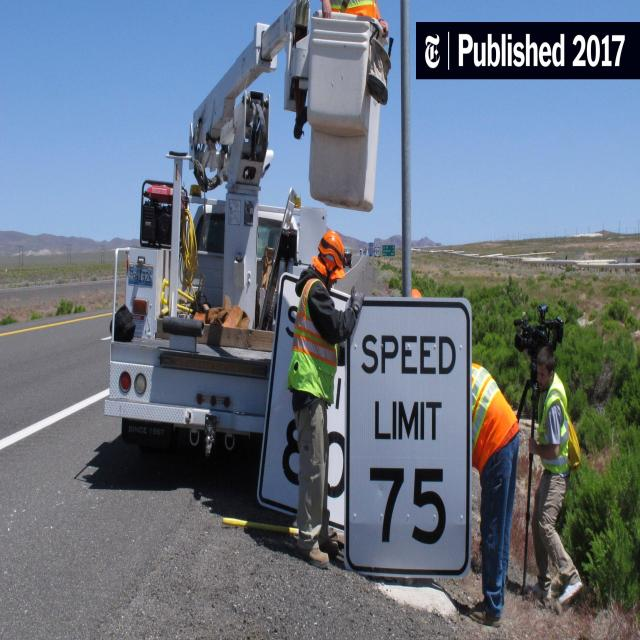speedLimit75: (346, 295, 472, 579)
